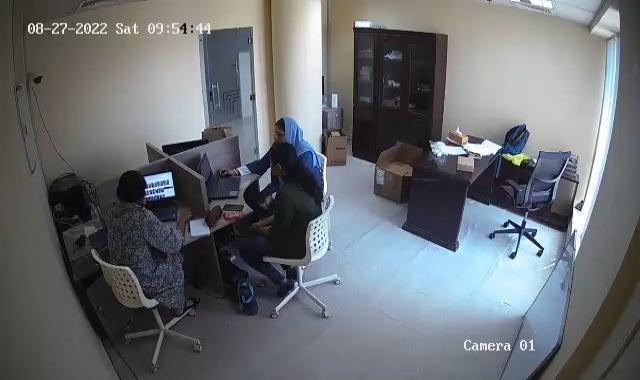no_hairnet: (264, 147, 302, 181), (120, 168, 145, 207), (277, 116, 304, 149)
